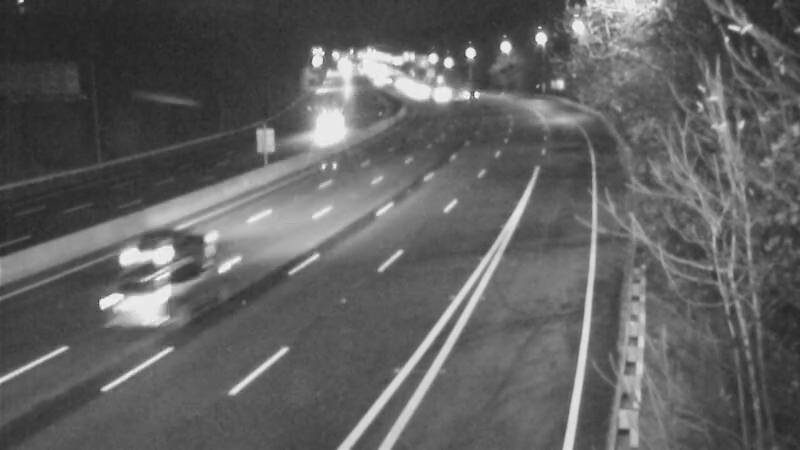vehicle: (80, 247, 190, 357), (106, 211, 186, 291), (439, 70, 489, 120), (414, 67, 464, 117), (391, 69, 441, 119), (302, 102, 352, 152)
